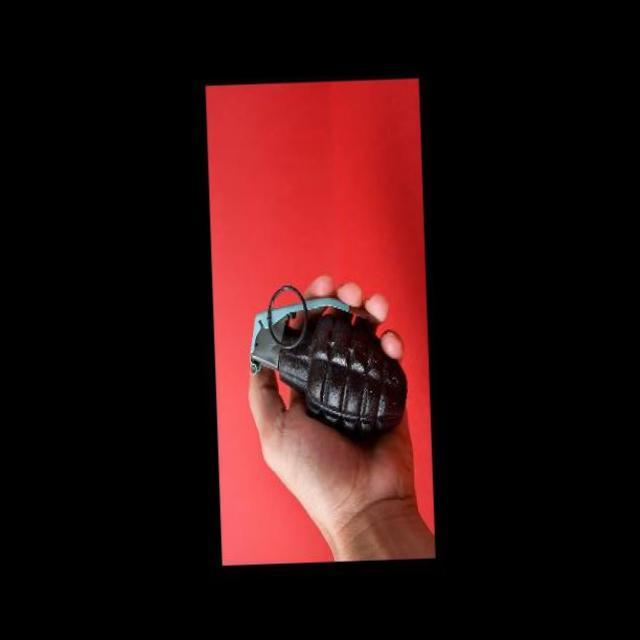grenade: (245, 278, 414, 454)
